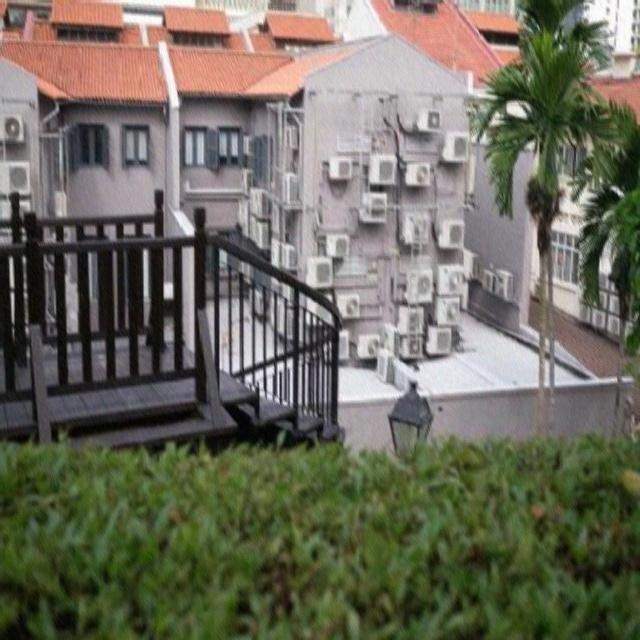stair: (162, 340, 348, 454)
